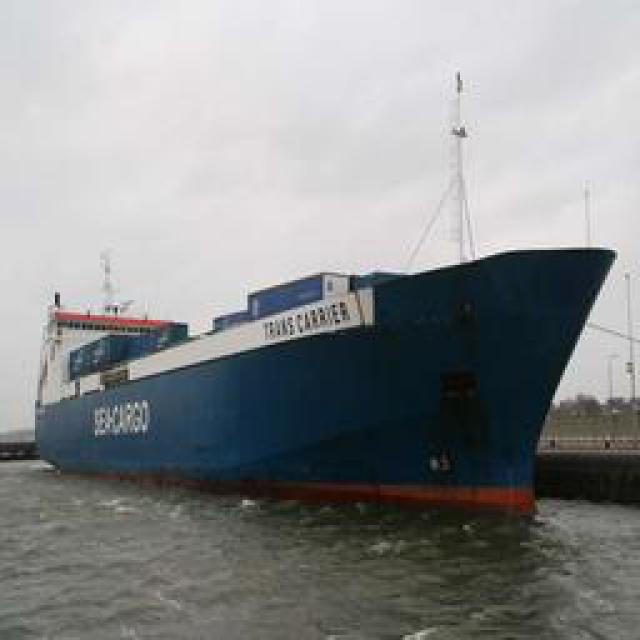Ship: (44, 240, 617, 510)
